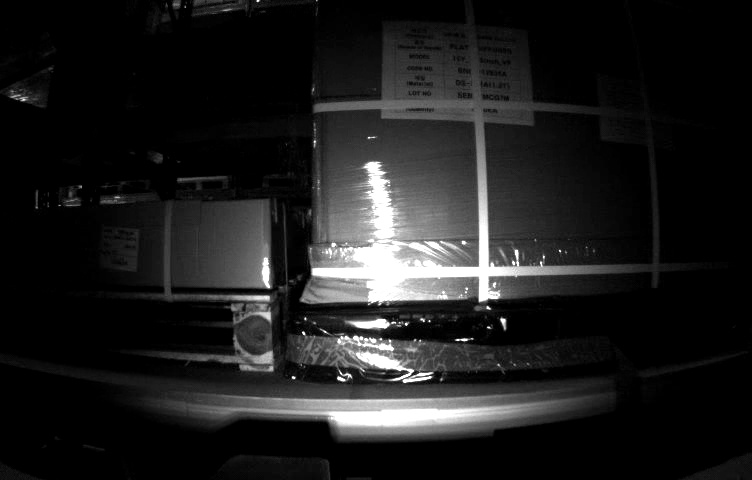True Barcode: (94, 223, 143, 274)
